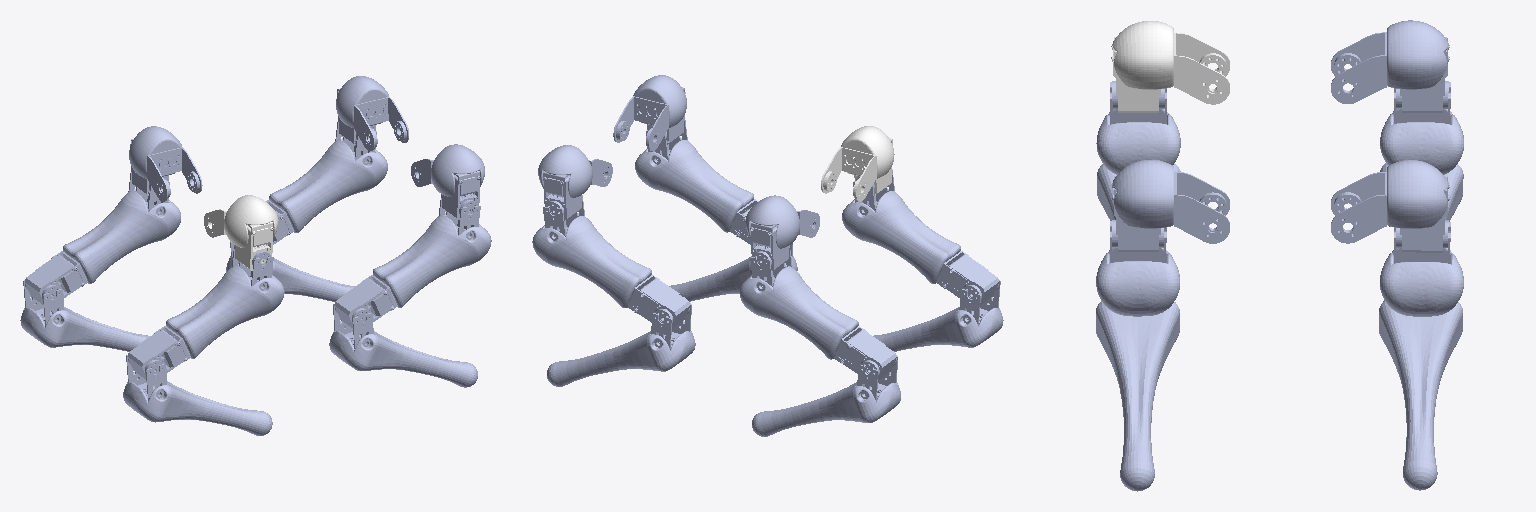
URDF robot description (PP):
<?xml version="1.0" encoding="utf-8"?>
<!-- This URDF was automatically created by SolidWorks to URDF Exporter! Originally created by [author] ([email redacted]) 
     Commit Version: 1.5.1-0-g916b5db  Build Version: 1.5.7152.31018
     For more information, please see http://wiki.ros.org/sw_urdf_exporter -->
<robot
  name="PP">

  <link
    name="base_link">
    <inertial>
      <origin
        xyz="0.0019147 -1.044E-05 0.012436"
        rpy="0 0 0" />
      <mass
        value="0.95" />
      <inertia
        ixx="0.00090019"
        ixy="-3.9096E-07"
        ixz="-9.0854E-05"
        iyy="0.0028213"
        iyz="1.8688E-07"
        izz="0.0034052" />
    </inertial>
    <visual>
      <origin
        xyz="0 0 0"
        rpy="0 0 0" />
      <geometry>
        <mesh
          filename="package://PP/meshes/base_link.STL" />
      </geometry>
    </visual>
    <collision>
      <origin
        xyz="0 0 0"
        rpy="0 0 0" />
      <geometry>
        <mesh
          filename="package://PP/meshes/low_qual/base_link.STL" />
      </geometry>
    </collision>
  </link>
  <link
    name="lf_shoulder_link">
    <inertial>
      <origin
        xyz="-0.030753 0.010778 0.045502"
        rpy="0 0 0" />
      <mass
        value="0.08" />
      <inertia
        ixx="1.9553E-05"
        ixy="2.0828E-07"
        ixz="3.218E-07"
        iyy="1.9066E-05"
        iyz="-9.7277E-07"
        izz="2.1805E-05" />
    </inertial>
    <visual>
      <origin
        xyz="0 0 0"
        rpy="0 0 0" />
      <geometry>
        <mesh
          filename="package://PP/meshes/lf_shoulder_link.STL" />
      </geometry>
      <material
        name="">
        <color
          rgba="0.79216 0.81961 0.93333 1" />
      </material>
    </visual>
    <collision>
      <origin
        xyz="0 0 0"
        rpy="0 0 0" />
      <geometry>
        <mesh
          filename="package://PP/meshes/low_qual/lf_shoulder_link.STL" />
      </geometry>
    </collision>
  </link>
  <joint
    name="LF_ARMPIT"
    type="revolute">
    <origin
      xyz="0.086416 0.04808 0.020486"
      rpy="1.5796 5.1018E-05 3.1416" />
    <parent
      link="base_link" />
    <child
      link="lf_shoulder_link" />
    <axis
      xyz="1 5.1016E-05 0" />
    <limit
      lower="-0.6"
      upper="0.6"
      effort="1000"
      velocity="0.5" />
  </joint>
  <link
    name="lf_thigh_link">
    <inertial>
      <origin
        xyz="0.059941 -0.034073 0.033487"
        rpy="0 0 0" />
      <mass
        value="0.2" />
      <inertia
        ixx="5.2643E-05"
        ixy="-6.8707E-06"
        ixz="-9.1036E-09"
        iyy="0.0002077"
        iyz="4.206E-10"
        izz="0.0001967" />
    </inertial>
    <visual>
      <origin
        xyz="0 0 0"
        rpy="0 0 0" />
      <geometry>
        <mesh
          filename="package://PP/meshes/lf_thigh_link.STL" />
      </geometry>
      <material
        name="">
        <color
          rgba="0.79216 0.81961 0.93333 1" />
      </material>
    </visual>
    <collision>
      <origin
        xyz="0 0 0"
        rpy="0 0 0" />
      <geometry>
        <mesh
          filename="package://PP/meshes/low_qual/lf_thigh_link.STL" />
      </geometry>
    </collision>
  </link>
  <joint
    name="LF_ELBOW"
    type="revolute">
    <origin
      xyz="-0.0292763807105232 -0.0145596375104043 0.0194736909981926"
      rpy="0 0 -0.391100326154628" />
    <parent
      link="lf_shoulder_link" />
    <child
      link="lf_thigh_link" />
    <axis
      xyz="0 0 1" />
    <limit
      lower="-1"
      upper="1.2"
      effort="1000"
      velocity="0.5" />
  </joint>
  <link
    name="lf_calf_link">
    <inertial>
      <origin
        xyz="-0.056274 -0.03107 0.031238"
        rpy="0 0 0" />
      <mass
        value="0.12" />
      <inertia
        ixx="2.7136E-05"
        ixy="6.5226E-06"
        ixz="-7.6949E-09"
        iyy="0.00025946"
        iyz="3.4777E-09"
        izz="0.00024892" />
    </inertial>
    <visual>
      <origin
        xyz="0 0 0"
        rpy="0 0 0" />
      <geometry>
        <mesh
          filename="package://PP/meshes/lf_calf_link.STL" />
      </geometry>
      <material
        name="">
        <color
          rgba="0.79216 0.81961 0.93333 1" />
      </material>
    </visual>
    <collision>
      <origin
        xyz="0 0 0"
        rpy="0 0 0" />
      <geometry>
        <mesh
          filename="package://PP/meshes/low_qual/lf_calf_link.STL" />
      </geometry>
    </collision>
  </link>
  <joint
    name="LF_KNEE"
    type="revolute">
    <origin
      xyz="0.146923729810866 -0.0347427857925265 0.00221049130220088"
      rpy="0 0 0.847510405575288" />
    <parent
      link="lf_thigh_link" />
    <child
      link="lf_calf_link" />
    <axis
      xyz="0 0 1" />
    <limit
      lower="-0.6"
      upper="1.5"
      effort="1000"
      velocity="0.5" />
  </joint>
  <link
    name="rf_shoulder_link">
    <inertial>
      <origin
        xyz="-0.030841 0.010778 -0.045501"
        rpy="0 0 0" />
      <mass
        value="0.08" />
      <inertia
        ixx="1.9552E-05"
        ixy="2.0806E-07"
        ixz="-3.2173E-07"
        iyy="1.9066E-05"
        iyz="9.7295E-07"
        izz="2.1805E-05" />
    </inertial>
    <visual>
      <origin
        xyz="0 0 0"
        rpy="0 0 0" />
      <geometry>
        <mesh
          filename="package://PP/meshes/rf_shoulder_link.STL" />
      </geometry>
      <material
        name="">
        <color
          rgba="0.79216 0.81961 0.93333 1" />
      </material>
    </visual>
    <collision>
      <origin
        xyz="0 0 0"
        rpy="0 0 0" />
      <geometry>
        <mesh
          filename="package://PP/meshes/low_qual/rf_shoulder_link.STL" />
      </geometry>
    </collision>
  </link>
  <joint
    name="RF_ARMPIT"
    type="revolute">
    <origin
      xyz="0.086926 -0.04808 0.020486"
      rpy="1.574 5.102E-05 -3.1416" />
    <parent
      link="base_link" />
    <child
      link="rf_shoulder_link" />
    <axis
      xyz="1 5.102E-05 0" />
    <limit
      lower="-0.6"
      upper="0.6"
      effort="1000"
      velocity="0.5" />
  </joint>
  <link
    name="rf_thigh_link">
    <inertial>
      <origin
        xyz="0.059941 -0.034073 -0.032689"
        rpy="0 0 0" />
      <mass
        value="0.2" />
      <inertia
        ixx="5.2643E-05"
        ixy="-6.8707E-06"
        ixz="-9.0904E-09"
        iyy="0.0002077"
        iyz="4.5082E-10"
        izz="0.0001967" />
    </inertial>
    <visual>
      <origin
        xyz="0 0 0"
        rpy="0 0 0" />
      <geometry>
        <mesh
          filename="package://PP/meshes/rf_thigh_link.STL" />
      </geometry>
      <material
        name="">
        <color
          rgba="0.79216 0.81961 0.93333 1" />
      </material>
    </visual>
    <collision>
      <origin
        xyz="0 0 0"
        rpy="0 0 0" />
      <geometry>
        <mesh
          filename="package://PP/meshes/low_qual/rf_thigh_link.STL" />
      </geometry>
    </collision>
  </link>
  <joint
    name="RF_ELBOW"
    type="revolute">
    <origin
      xyz="-0.0292763926136173 -0.0145596376099831 -0.0201913965766899"
      rpy="0 0 -0.396320647708051" />
    <parent
      link="rf_shoulder_link" />
    <child
      link="rf_thigh_link" />
    <axis
      xyz="0 0 1" />
    <limit
      lower="-1"
      upper="1.2"
      effort="1000"
      velocity="0.5" />
  </joint>
  <link
    name="rf_calf_link">
    <inertial>
      <origin
        xyz="-0.056274 -0.03107 -0.030468"
        rpy="0 0 0" />
      <mass
        value="0.12" />
      <inertia
        ixx="2.7136E-05"
        ixy="6.5227E-06"
        ixz="-7.3333E-09"
        iyy="0.00025946"
        iyz="3.4574E-09"
        izz="0.00024892" />
    </inertial>
    <visual>
      <origin
        xyz="0 0 0"
        rpy="0 0 0" />
      <geometry>
        <mesh
          filename="package://PP/meshes/rf_calf_link.STL" />
      </geometry>
      <material
        name="">
        <color
          rgba="0.79216 0.81961 0.93333 1" />
      </material>
    </visual>
    <collision>
      <origin
        xyz="0 0 0"
        rpy="0 0 0" />
      <geometry>
        <mesh
          filename="package://PP/meshes/low_qual/rf_calf_link.STL" />
      </geometry>
    </collision>
  </link>
  <joint
    name="RF_KNEE"
    type="revolute">
    <origin
      xyz="0.146923729810897 -0.0347427857925089 -0.00226016980146514"
      rpy="0 0 0.855957326465464" />
    <parent
      link="rf_thigh_link" />
    <child
      link="rf_calf_link" />
    <axis
      xyz="0 0 1" />
    <limit
      lower="-0.6"
      upper="1.5"
      effort="1000"
      velocity="0.5" />
  </joint>
  <link
    name="lb_shoulder_link">
    <inertial>
      <origin
        xyz="0.026809 0.010781 0.045502"
        rpy="0 0 0" />
      <mass
        value="0.08" />
      <inertia
        ixx="1.9553E-05"
        ixy="2.0828E-07"
        ixz="3.218E-07"
        iyy="1.9066E-05"
        iyz="-9.7277E-07"
        izz="2.1805E-05" />
    </inertial>
    <visual>
      <origin
        xyz="0 0 0"
        rpy="0 0 0" />
      <geometry>
        <mesh
          filename="package://PP/meshes/lb_shoulder_link.STL" />
      </geometry>
      <material
        name="">
        <color
          rgba="0.79216 0.81961 0.93333 1" />
      </material>
    </visual>
    <collision>
      <origin
        xyz="0 0 0"
        rpy="0 0 0" />
      <geometry>
        <mesh
          filename="package://PP/meshes/low_qual/lb_shoulder_link.STL" />
      </geometry>
    </collision>
  </link>
  <joint
    name="LB_ARMPIT"
    type="revolute">
    <origin
      xyz="-0.090343 0.04808 0.020486"
      rpy="1.5771 5.1019E-05 -3.1416" />
    <parent
      link="base_link" />
    <child
      link="lb_shoulder_link" />
    <axis
      xyz="1 5.1018E-05 0" />
    <limit
      lower="-0.6"
      upper="0.6"
      effort="1000"
      velocity="0.5" />
  </joint>
  <link
    name="lb_thigh_link">
    <inertial>
      <origin
        xyz="0.059941 -0.034073 0.033188"
        rpy="0 0 0" />
      <mass
        value="0.2" />
      <inertia
        ixx="5.2643E-05"
        ixy="-6.8707E-06"
        ixz="-9.0664E-09"
        iyy="0.0002077"
        iyz="3.9696E-10"
        izz="0.0001967" />
    </inertial>
    <visual>
      <origin
        xyz="0 0 0"
        rpy="0 0 0" />
      <geometry>
        <mesh
          filename="package://PP/meshes/lb_thigh_link.STL" />
      </geometry>
      <material
        name="">
        <color
          rgba="0.79216 0.81961 0.93333 1" />
      </material>
    </visual>
    <collision>
      <origin
        xyz="0 0 0"
        rpy="0 0 0" />
      <geometry>
        <mesh
          filename="package://PP/meshes/low_qual/lb_thigh_link.STL" />
      </geometry>
    </collision>
  </link>
  <joint
    name="LB_ELBOW"
    type="revolute">
    <origin
      xyz="0.0282851953087068 -0.0145567008678925 0.0197727795166636"
      rpy="0 0 -0.403369036917515" />
    <parent
      link="lb_shoulder_link" />
    <child
      link="lb_thigh_link" />
    <axis
      xyz="0 0 1" />
    <limit
      lower="-1"
      upper="1.2"
      effort="1000"
      velocity="0.5" />
  </joint>
  <link
    name="lb_calf_link">
    <inertial>
      <origin
        xyz="-0.056276 -0.031071 0.030904"
        rpy="0 0 0" />
      <mass
        value="0.12" />
      <inertia
        ixx="2.7136E-05"
        ixy="6.5208E-06"
        ixz="-9.4832E-09"
        iyy="0.00025948"
        iyz="3.3556E-09"
        izz="0.00024894" />
    </inertial>
    <visual>
      <origin
        xyz="0 0 0"
        rpy="0 0 0" />
      <geometry>
        <mesh
          filename="package://PP/meshes/lb_calf_link.STL" />
      </geometry>
      <material
        name="">
        <color
          rgba="0.79216 0.81961 0.93333 1" />
      </material>
    </visual>
    <collision>
      <origin
        xyz="0 0 0"
        rpy="0 0 0" />
      <geometry>
        <mesh
          filename="package://PP/meshes/low_qual/lb_calf_link.STL" />
      </geometry>
    </collision>
  </link>
  <joint
    name="LB_KNEE"
    type="revolute">
    <origin
      xyz="0.146923729810866 -0.0347427857925263 0.0022460131535169"
      rpy="0 0 0.846105672174157" />
    <parent
      link="lb_thigh_link" />
    <child
      link="lb_calf_link" />
    <axis
      xyz="0 0 1" />
    <limit
      lower="-0.6"
      upper="1.5"
      effort="1000"
      velocity="0.5" />
  </joint>
  <link
    name="rb_shoulder_link">
    <inertial>
      <origin
        xyz="0.026809 0.010781 -0.045502"
        rpy="0 0 0" />
      <mass
        value="0.8" />
      <inertia
        ixx="1.9552E-05"
        ixy="2.0806E-07"
        ixz="-3.2173E-07"
        iyy="1.9066E-05"
        iyz="9.7295E-07"
        izz="2.1805E-05" />
    </inertial>
    <visual>
      <origin
        xyz="0 0 0"
        rpy="0 0 0" />
      <geometry>
        <mesh
          filename="package://PP/meshes/rb_shoulder_link.STL" />
      </geometry>
      <material
        name="">
        <color
          rgba="1 1 1 1" />
      </material>
    </visual>
    <collision>
      <origin
        xyz="0 0 0"
        rpy="0 0 0" />
      <geometry>
        <mesh
          filename="package://PP/meshes/low_qual/rb_shoulder_link.STL" />
      </geometry>
    </collision>
  </link>
  <joint
    name="RB_ARMPIT"
    type="revolute">
    <origin
      xyz="-0.089832858326759 -0.048079999996991 0.0204860000530178"
      rpy="1.56726128115491 5.1020089459211E-05 3.14159265358979" />
    <parent
      link="base_link" />
    <child
      link="rb_shoulder_link" />
    <axis
      xyz="0.999999998698475 5.10197706500462E-05 0" />
    <limit
      lower="-0.6"
      upper="0.6"
      effort="1000"
      velocity="0.5" />
  </joint>
  <link
    name="rb_thigh_link">
    <inertial>
      <origin
        xyz="0.059941 -0.034073 -0.03228"
        rpy="0 0 0" />
      <mass
        value="0.2" />
      <inertia
        ixx="5.2643E-05"
        ixy="-6.8707E-06"
        ixz="-9.0702E-09"
        iyy="0.0002077"
        iyz="4.531E-10"
        izz="0.0001967" />
    </inertial>
    <visual>
      <origin
        xyz="0 0 0"
        rpy="0 0 0" />
      <geometry>
        <mesh
          filename="package://PP/meshes/rb_thigh_link.STL" />
      </geometry>
      <material
        name="">
        <color
          rgba="0.79216 0.81961 0.93333 1" />
      </material>
    </visual>
    <collision>
      <origin
        xyz="0 0 0"
        rpy="0 0 0" />
      <geometry>
        <mesh
          filename="package://PP/meshes/low_qual/rb_thigh_link.STL" />
      </geometry>
    </collision>
  </link>
  <joint
    name="RB_ELBOW"
    type="revolute">
    <origin
      xyz="0.0282851926369588 -0.014556700827701 -0.0206007488883525"
      rpy="0 0 -0.402912237027728" />
    <parent
      link="rb_shoulder_link" />
    <child
      link="rb_thigh_link" />
    <axis
      xyz="0 0 1" />
    <limit
      lower="-1"
      upper="1.2"
      effort="1000"
      velocity="0.5" />
  </joint>
  <link
    name="rb_calf_link">
    <inertial>
      <origin
        xyz="-0.056274 -0.03107 -0.030041"
        rpy="0 0 0" />
      <mass
        value="0.12" />
      <inertia
        ixx="2.7136E-05"
        ixy="6.5224E-06"
        ixz="-6.7696E-09"
        iyy="0.00025946"
        iyz="3.5008E-09"
        izz="0.00024892" />
    </inertial>
    <visual>
      <origin
        xyz="0 0 0"
        rpy="0 0 0" />
      <geometry>
        <mesh
          filename="package://PP/meshes/rb_calf_link.STL" />
      </geometry>
      <material
        name="">
        <color
          rgba="0.79216 0.81961 0.93333 1" />
      </material>
    </visual>
    <collision>
      <origin
        xyz="0 0 0"
        rpy="0 0 0" />
      <geometry>
        <mesh
          filename="package://PP/meshes/low_qual/rb_calf_link.STL" />
      </geometry>
    </collision>
  </link>
  <joint
    name="RB_KNEE"
    type="revolute">
    <origin
      xyz="0.146923729810898 -0.0347427857925087 -0.00227734285054983"
      rpy="0 0 0.845439714667136" />
    <parent
      link="rb_thigh_link" />
    <child
      link="rb_calf_link" />
    <axis
      xyz="0 0 1" />
    <limit
      lower="-0.6"
      upper="1.5"
      effort="1000"
      velocity="0.5" />
  </joint>
</robot>

--- What the picture shows (computed from the rendered views, not written in the file) ---
The picture shows the robot from 3 angles, left to right: view 1: azimuth 30°, elevation 25°; view 2: azimuth 150°, elevation 25°; view 3: azimuth 270°, elevation 25°; orthographic projection.
Robot: PP — 13 links, 12 joints (12 revolute); root link base_link; default pose: all joints at 0.
Visible links, largest first — view 1: rb_thigh_link, rf_thigh_link, lb_thigh_link, lf_thigh_link, rb_calf_link, rf_calf_link, lb_calf_link, lf_shoulder_link, lb_shoulder_link, rb_shoulder_link, rf_shoulder_link, lf_calf_link; view 2: lb_thigh_link, lf_thigh_link, rb_thigh_link, rf_thigh_link, lb_calf_link, lf_calf_link, rb_calf_link, rb_shoulder_link, rf_shoulder_link, lf_shoulder_link, lb_shoulder_link, rf_calf_link; view 3: rf_calf_link, lf_shoulder_link, lf_calf_link, lb_shoulder_link, rb_shoulder_link, rf_shoulder_link, rf_thigh_link, lf_thigh_link, lb_thigh_link, rb_thigh_link, rb_calf_link, lb_calf_link.
Link boxes in pixels (x1,y1,x2,y2): rb_thigh_link: [127, 247, 284, 378]; rf_thigh_link: [334, 196, 491, 327]; lb_thigh_link: [25, 172, 180, 304]; lf_thigh_link: [266, 122, 387, 244]; rb_calf_link: [123, 350, 272, 435]; rf_calf_link: [329, 298, 477, 387]; lb_calf_link: [20, 274, 149, 351]; lf_shoulder_link: [336, 76, 408, 150]; lb_shoulder_link: [129, 126, 202, 201]; rb_shoulder_link: [204, 195, 277, 270]; rf_shoulder_link: [411, 144, 484, 219]; lf_calf_link: [226, 242, 355, 301]; lb_thigh_link: [739, 247, 896, 380]; lf_thigh_link: [532, 195, 690, 328]; rb_thigh_link: [842, 169, 998, 304]; rf_thigh_link: [635, 120, 758, 244]; lb_calf_link: [752, 356, 900, 436]; lf_calf_link: [547, 297, 695, 386]; rb_calf_link: [873, 280, 1003, 351]; rb_shoulder_link: [821, 126, 894, 201]; rf_shoulder_link: [613, 75, 686, 150]; lf_shoulder_link: [538, 145, 612, 220]; lb_shoulder_link: [746, 195, 819, 270]; rf_calf_link: [669, 243, 797, 301]; rf_calf_link: [1096, 301, 1179, 491]; lf_shoulder_link: [1331, 160, 1449, 252]; lf_calf_link: [1379, 300, 1462, 490]; lb_shoulder_link: [1331, 20, 1449, 112]; rb_shoulder_link: [1111, 21, 1229, 112]; rf_shoulder_link: [1112, 160, 1229, 251]; rf_thigh_link: [1096, 220, 1179, 316]; lf_thigh_link: [1380, 220, 1463, 316]; lb_thigh_link: [1380, 81, 1463, 174]; rb_thigh_link: [1096, 81, 1180, 174]; rb_calf_link: [1097, 163, 1180, 220]; lb_calf_link: [1380, 163, 1463, 221].
Size in the robot's own frame: 0.4014 by 0.2621 by 0.2561 metres.
Meshes: 13 distinct files referenced, 12 mesh visuals loaded (12 binary STL); not drawn: 1 (reference not matched to a file when rendering).